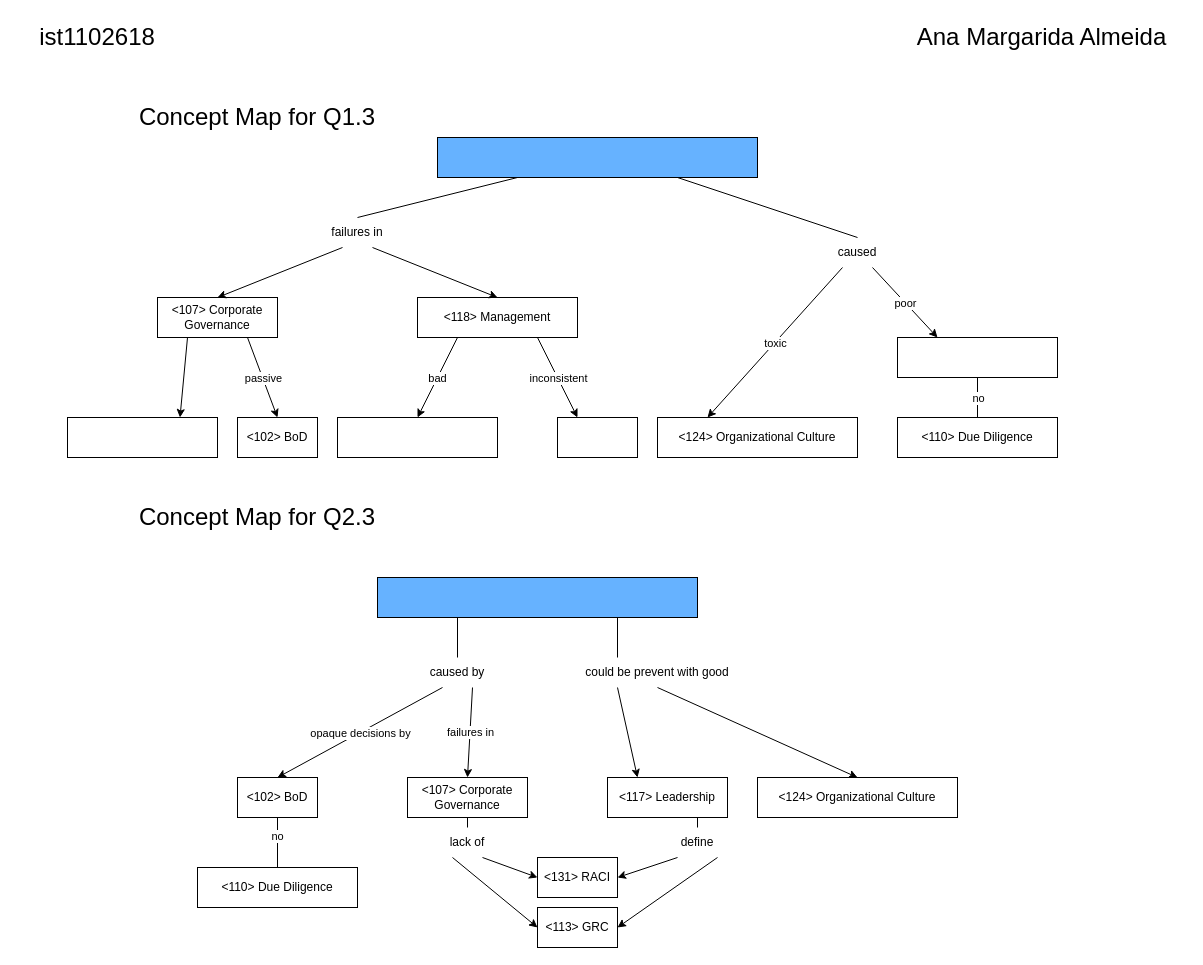
Image size: 1203x965. Some labels were removed from this diagram. The box of each missing label's shape, as (x1, y1, x2, y2) in pixels:
<112> Governance: (896, 336, 1058, 378)
<115> Internal Controls: (336, 416, 498, 458)
<116> KPI: (556, 416, 638, 458)
CEO’s centralized power: (66, 416, 218, 458)
Governance and Management Failures at VisioRetail: (436, 136, 758, 178)
OpenAI Governance Crisis: (376, 576, 698, 618)
